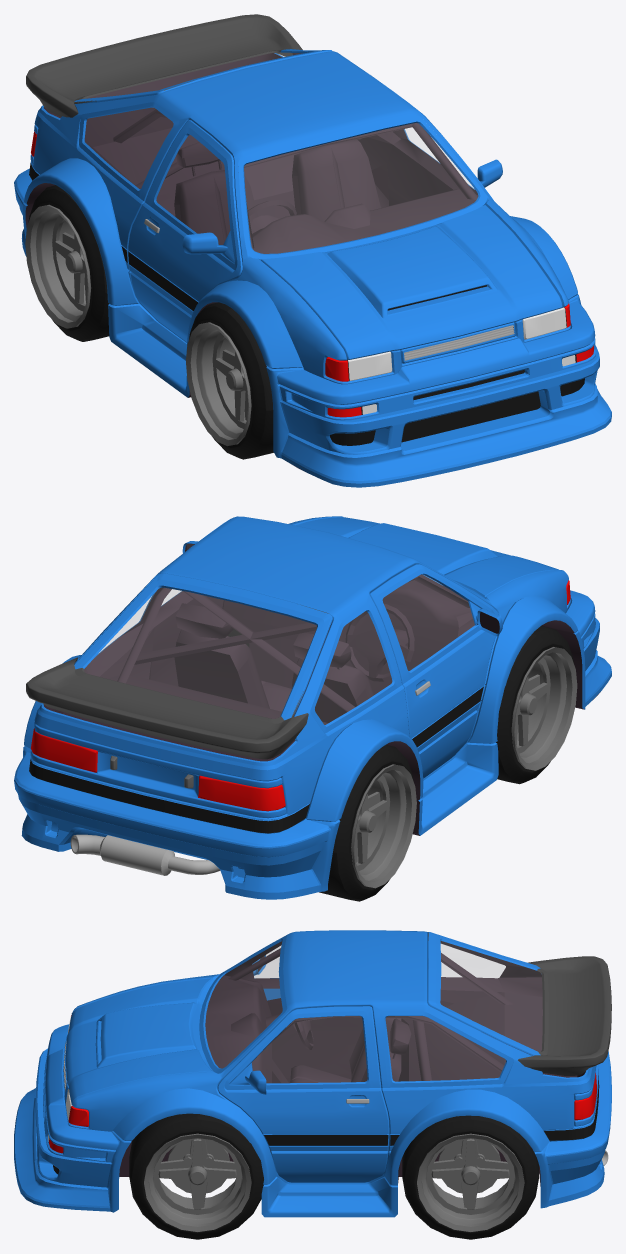
Rendered from car.glb.
The picture shows the model from 3 angles, top to bottom: view 1: azimuth 30°, elevation 25°; view 2: azimuth 150°, elevation 25°; view 3: azimuth 270°, elevation 25°; orthographic projection. The views are drawn at different scales.
Visible parts, largest first — view 1: windows; view 2: windows; view 3: windows.
Boxes of the visible parts, box(x1,y1,x2,y2) form: windows: box(14, 14, 611, 487); windows: box(14, 516, 611, 901); windows: box(14, 930, 611, 1239).
Bounding box in the file's own units: 1.54 × 1.14 × 2.86.
